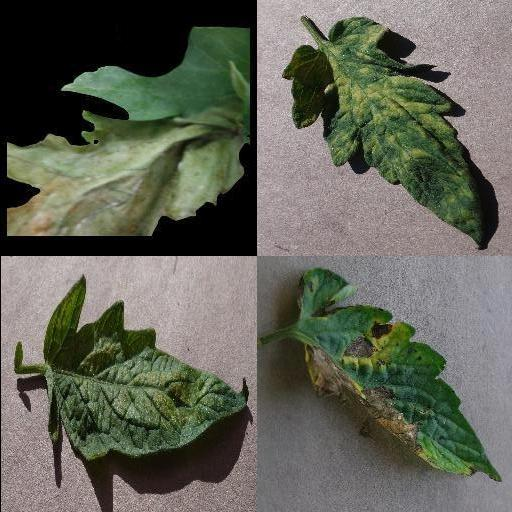Early Blight: (295, 268, 501, 482)
Late Blight: (5, 27, 247, 235)
Leaf Mold: (281, 17, 489, 250)
Spider Mites: (41, 274, 249, 460)
